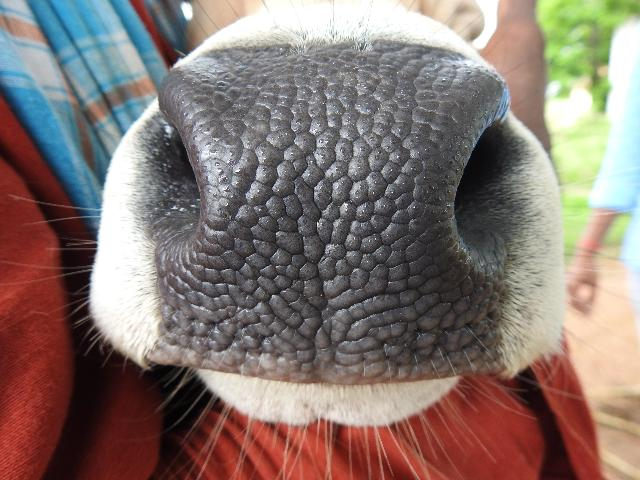Muzzle: (189, 74, 455, 364)
